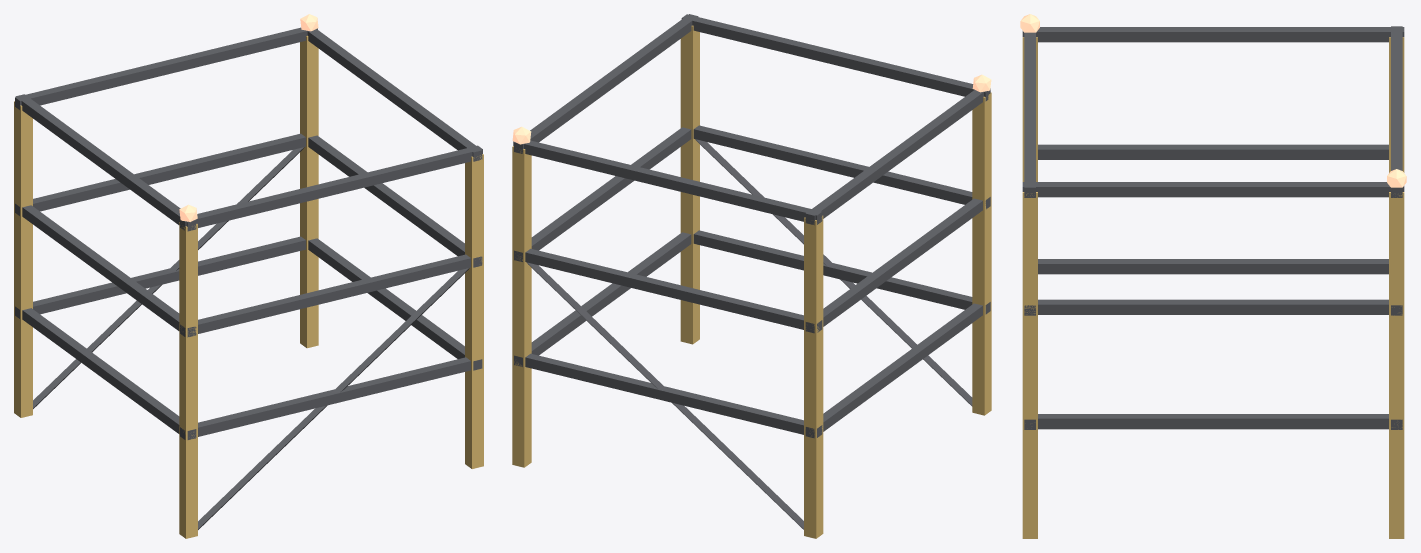
Rendered from Build_AegisScaffold.fbx.
3 views of the same model, side by side, from view 1: azimuth 30°, elevation 25°; view 2: azimuth 150°, elevation 25°; view 3: azimuth 270°, elevation 25° (orthographic). The views are drawn at different scales.
Parts seen in each view (by area): view 1: AScaf_Post3, AScaf_Post2, AScaf_Post1, AScaf_Post0, AScaf_BeamX1.0-1, AScaf_BeamX1.01, AScaf_BeamX0.66-1, AScaf_BeamX0.33-1, AScaf_BeamX0.661, AScaf_BeamX0.331, AScaf_BeamY1.0-1, AScaf_BeamY1.01 (+6 smaller); view 2: AScaf_Post1, AScaf_Post0, AScaf_Post3, AScaf_Post2, AScaf_BeamX1.01, AScaf_BeamX1.0-1, AScaf_BeamX0.661, AScaf_BeamX0.331, AScaf_BeamX0.66-1, AScaf_BeamX0.33-1, AScaf_BeamY1.0-1, AScaf_BeamY1.01 (+6 smaller); view 3: AScaf_BeamY1.01, AScaf_BeamY1.0-1, AScaf_BeamY0.33-1, AScaf_BeamY0.331, AScaf_BeamY0.66-1, AScaf_BeamY0.661, AScaf_Post2, AScaf_Post0, AScaf_BeamX1.0-1, AScaf_BeamX1.01, AScaf_Post3, AScaf_Post1.
Boxes of the visible parts, left/top/right/bottom form: AScaf_Post3: left=179, top=222, right=197, bottom=538; AScaf_Post2: left=465, top=154, right=483, bottom=468; AScaf_Post1: left=14, top=101, right=32, bottom=417; AScaf_Post0: left=300, top=35, right=318, bottom=348; AScaf_BeamX1.0-1: left=180, top=145, right=482, bottom=230; AScaf_BeamX1.01: left=15, top=27, right=317, bottom=109; AScaf_BeamX0.66-1: left=180, top=254, right=470, bottom=336; AScaf_BeamX0.33-1: left=180, top=357, right=470, bottom=439; AScaf_BeamX0.661: left=15, top=133, right=305, bottom=215; AScaf_BeamX0.331: left=15, top=236, right=305, bottom=318; AScaf_BeamY1.0-1: left=15, top=94, right=196, bottom=231; AScaf_BeamY1.01: left=307, top=29, right=482, bottom=161; AScaf_Post1: left=804, top=215, right=823, bottom=538; AScaf_Post0: left=512, top=146, right=531, bottom=467; AScaf_Post3: left=972, top=92, right=991, bottom=415; AScaf_Post2: left=680, top=25, right=699, bottom=344; AScaf_BeamX1.01: left=513, top=140, right=822, bottom=224; AScaf_BeamX1.0-1: left=681, top=14, right=990, bottom=101; AScaf_BeamX0.661: left=525, top=248, right=822, bottom=332; AScaf_BeamX0.331: left=525, top=353, right=822, bottom=437; AScaf_BeamX0.66-1: left=693, top=125, right=990, bottom=209; AScaf_BeamX0.33-1: left=693, top=230, right=990, bottom=314; AScaf_BeamY1.0-1: left=805, top=90, right=983, bottom=225; AScaf_BeamY1.01: left=514, top=14, right=698, bottom=153; AScaf_BeamY1.01: left=1022, top=182, right=1404, bottom=197; AScaf_BeamY1.0-1: left=1022, top=27, right=1404, bottom=42; AScaf_BeamY0.33-1: left=1038, top=259, right=1388, bottom=274; AScaf_BeamY0.331: left=1038, top=414, right=1388, bottom=429; AScaf_BeamY0.66-1: left=1038, top=144, right=1388, bottom=159; AScaf_BeamY0.661: left=1038, top=299, right=1388, bottom=314; AScaf_Post2: left=1022, top=192, right=1037, bottom=538; AScaf_Post0: left=1389, top=192, right=1404, bottom=538; AScaf_BeamX1.0-1: left=1024, top=32, right=1035, bottom=197; AScaf_BeamX1.01: left=1391, top=26, right=1402, bottom=197; AScaf_Post3: left=1022, top=37, right=1037, bottom=181; AScaf_Post1: left=1389, top=37, right=1404, bottom=172.
Size of the model in its own units: 1.01 by 1.07 by 1.01.
